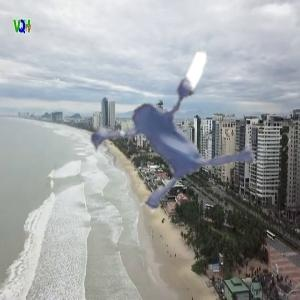drone: (69, 10, 300, 241)
